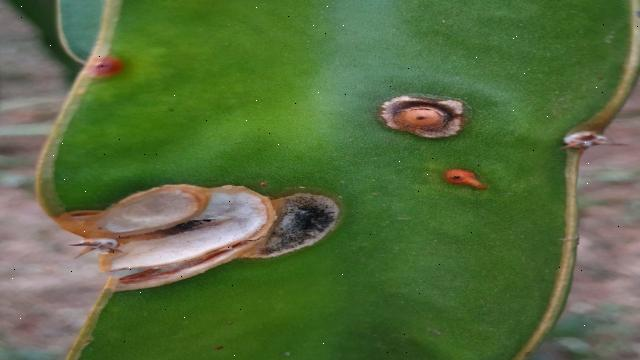stemcanker: (435, 160, 496, 193)
